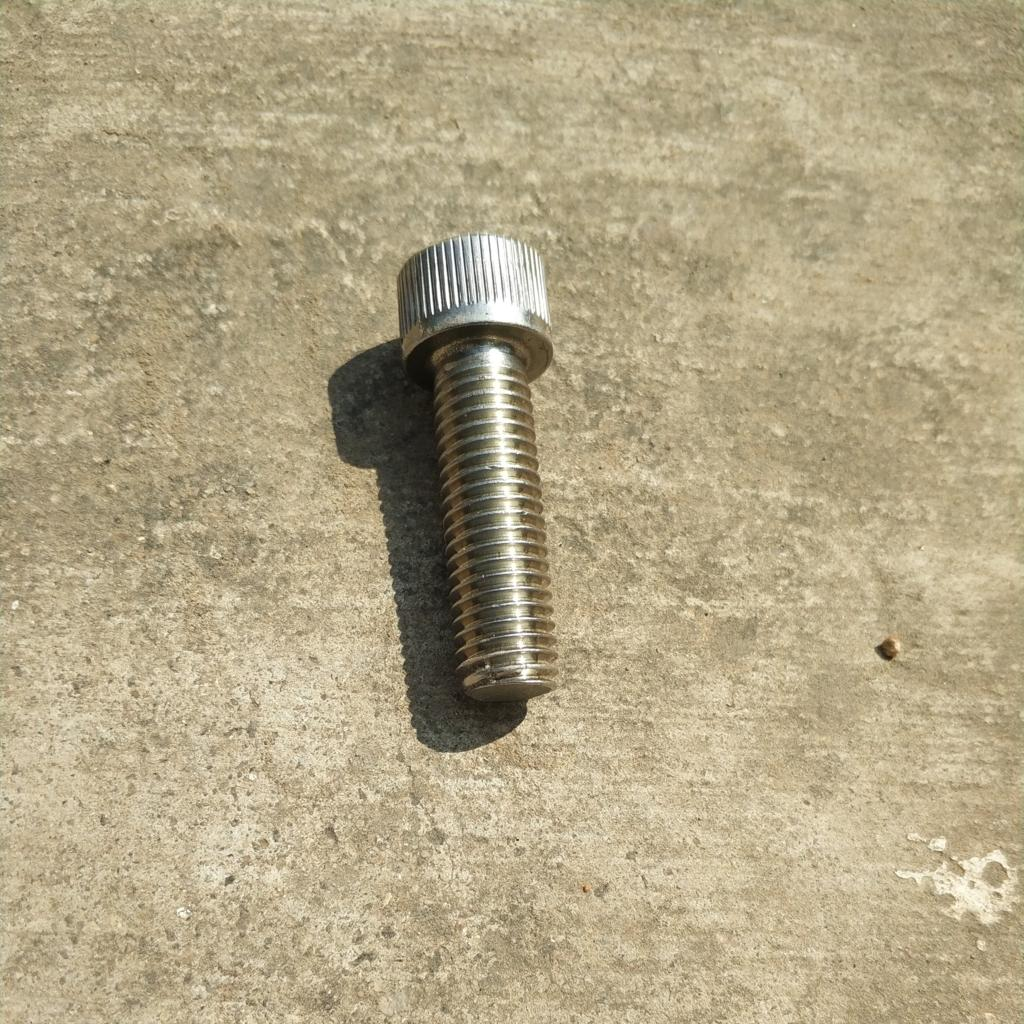screwtype1silver: (392, 232, 575, 708)
